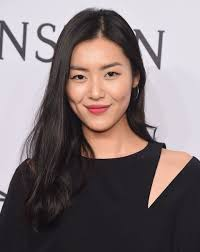person: (49, 8, 144, 136)
